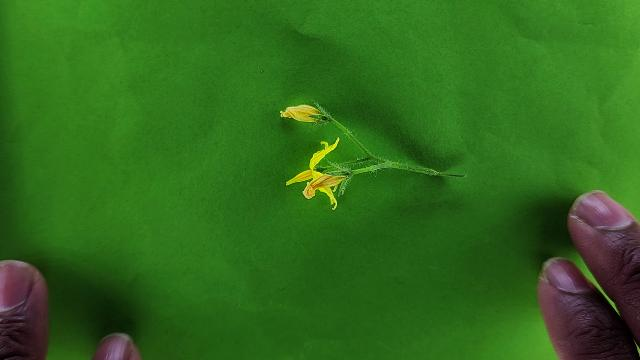Anthesis: (295, 171, 345, 207), (278, 104, 331, 126)
